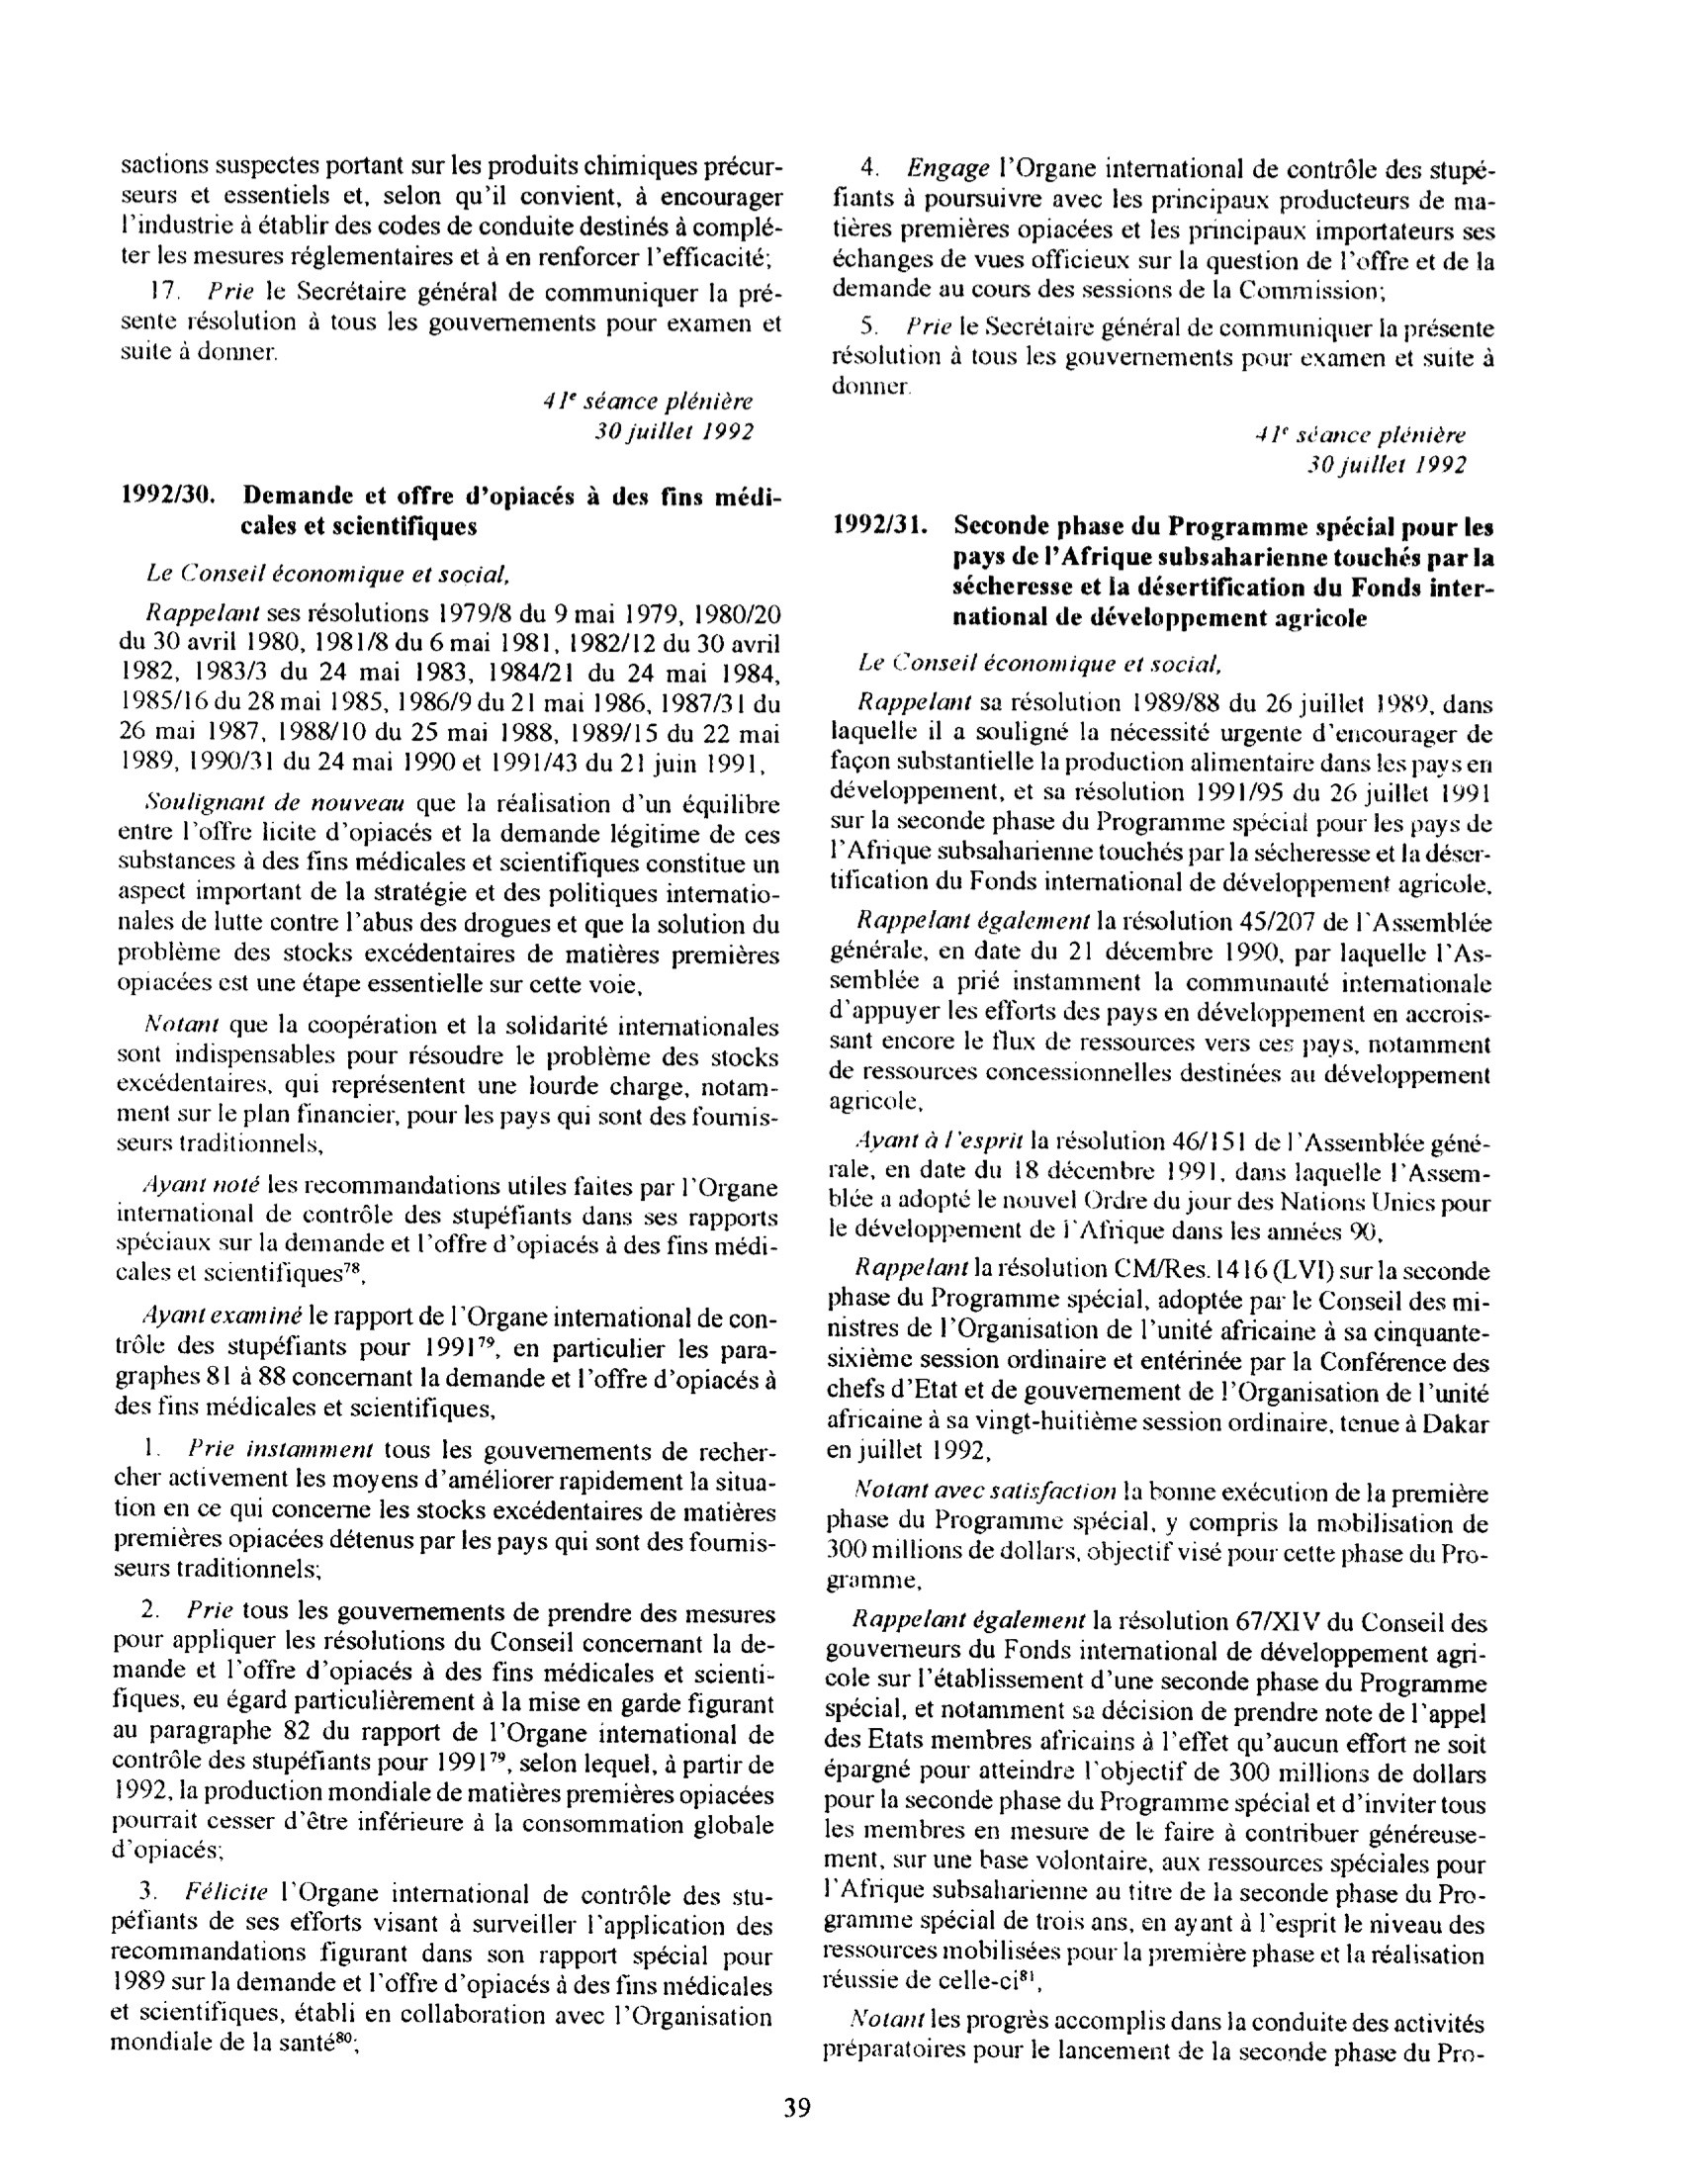MainZone-Continued: (112, 147, 793, 272)
MainZone-Date: (584, 416, 770, 453), (1296, 442, 1474, 480)
MainZone-Head: (828, 502, 1502, 635), (113, 472, 785, 545)
MainZone-ListItem: (104, 1591, 782, 1867), (104, 1873, 779, 2061), (826, 145, 1501, 306), (107, 1432, 781, 1585), (111, 273, 793, 373), (825, 310, 1502, 406)
MainZone-P: (817, 1601, 1498, 1999), (823, 1252, 1497, 1470), (111, 786, 786, 1002), (824, 904, 1498, 1117), (827, 683, 1499, 896), (113, 594, 789, 777), (110, 1009, 784, 1161), (109, 1298, 783, 1424), (823, 1124, 1498, 1247), (821, 1475, 1495, 1597), (111, 1167, 784, 1290), (816, 2003, 1493, 2072), (114, 553, 523, 591), (849, 645, 1233, 679)
MainZone-Signature: (1245, 415, 1481, 457), (532, 381, 778, 420)
TitlePageZone: (777, 2089, 817, 2131)
